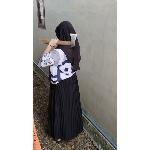Kapak: (36, 32, 84, 50)
